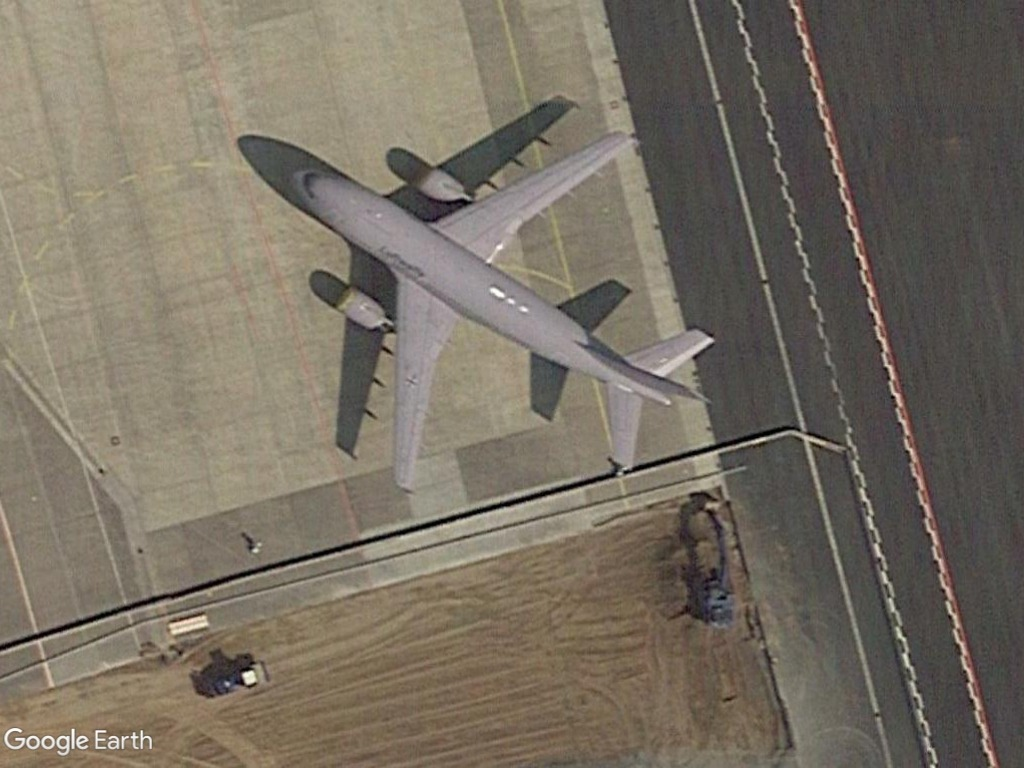airliner: (268, 108, 731, 503)
